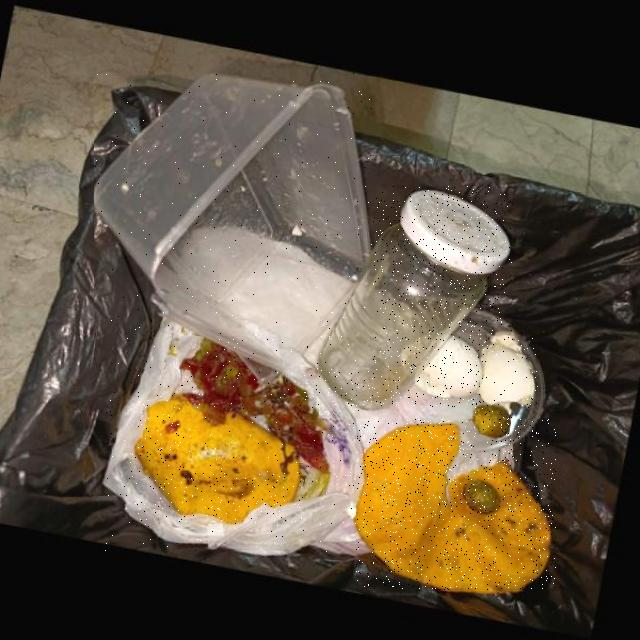biowaste: (357, 420, 556, 590), (137, 393, 304, 522), (183, 337, 334, 472), (481, 326, 538, 408), (416, 332, 486, 394), (473, 399, 514, 435), (466, 474, 504, 512)
glass: (320, 187, 512, 407)
plastic: (95, 72, 373, 369), (105, 316, 374, 554)
